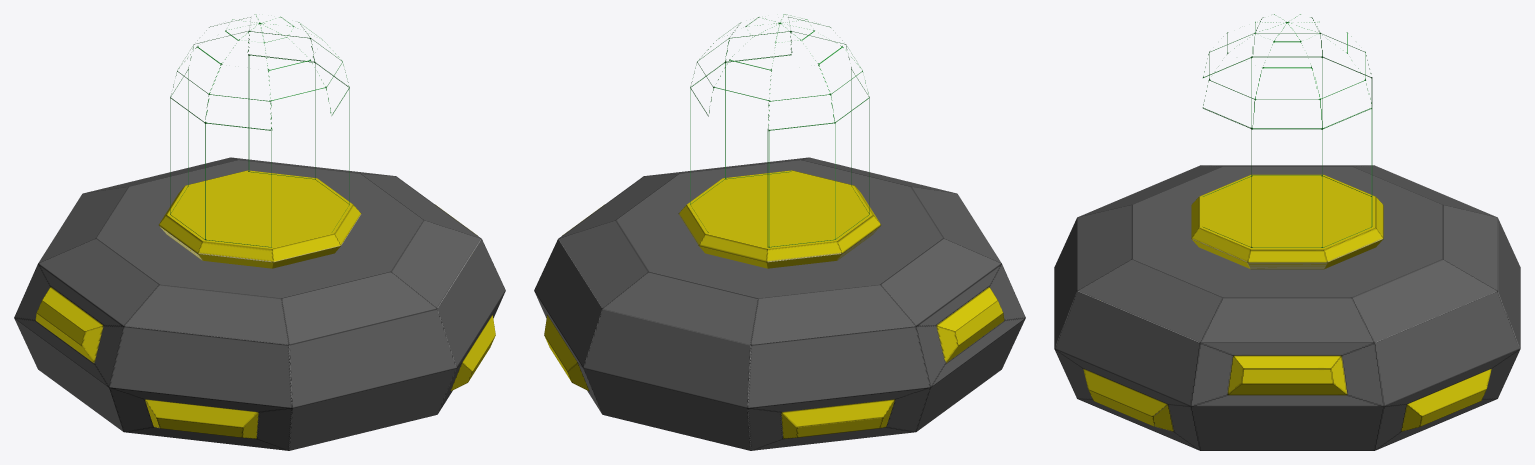
File: UFO.fbx
The picture shows the model from 3 angles, left to right: view 1: azimuth 30°, elevation 25°; view 2: azimuth 150°, elevation 25°; view 3: azimuth 270°, elevation 25°; orthographic projection.
Parts seen in each view (by area): view 1: polySurface1; view 2: polySurface1; view 3: polySurface1.
Boxes of the visible parts, x1,y1,x2,y2 form: polySurface1: [14, 14, 505, 450]; polySurface1: [534, 14, 1025, 450]; polySurface1: [1054, 14, 1520, 450].
Bounding box in the file's own units: 7.19 × 6.41 × 7.1.
1 material, 1 textured.
